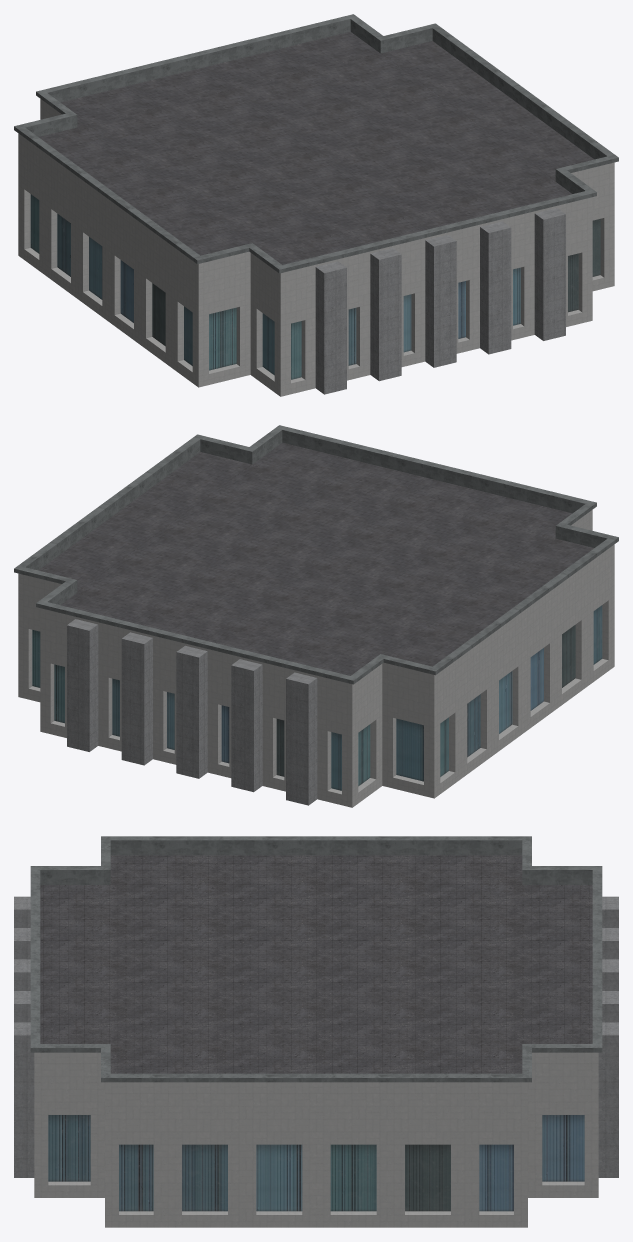
Rendered from jctBld50C_top.fbx.
The picture shows the model from 3 angles, top to bottom: view 1: azimuth 30°, elevation 25°; view 2: azimuth 150°, elevation 25°; view 3: azimuth 270°, elevation 25°; orthographic projection. The views are drawn at different scales.
Visible parts, largest first — view 1: jctBld50C_top_LOD0; view 2: jctBld50C_top_LOD0; view 3: jctBld50C_top_LOD0.
Part boxes in pixels (x1,y1,x2,y2): jctBld50C_top_LOD0: [14, 14, 618, 396]; jctBld50C_top_LOD0: [14, 425, 618, 807]; jctBld50C_top_LOD0: [14, 836, 618, 1227].
Bounding box in the file's own units: 4054 × 1185 × 4288.
